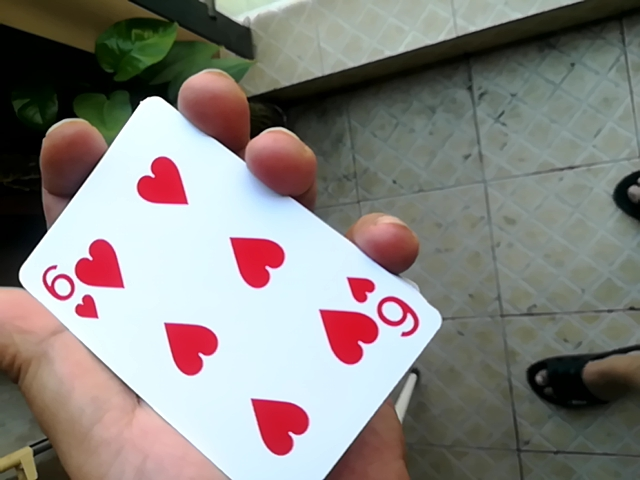hx 6: (10, 82, 433, 473)
